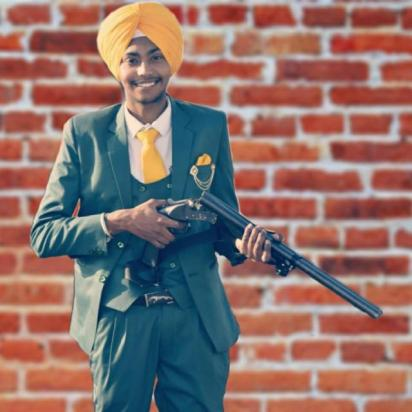Gun: (138, 188, 384, 323)
